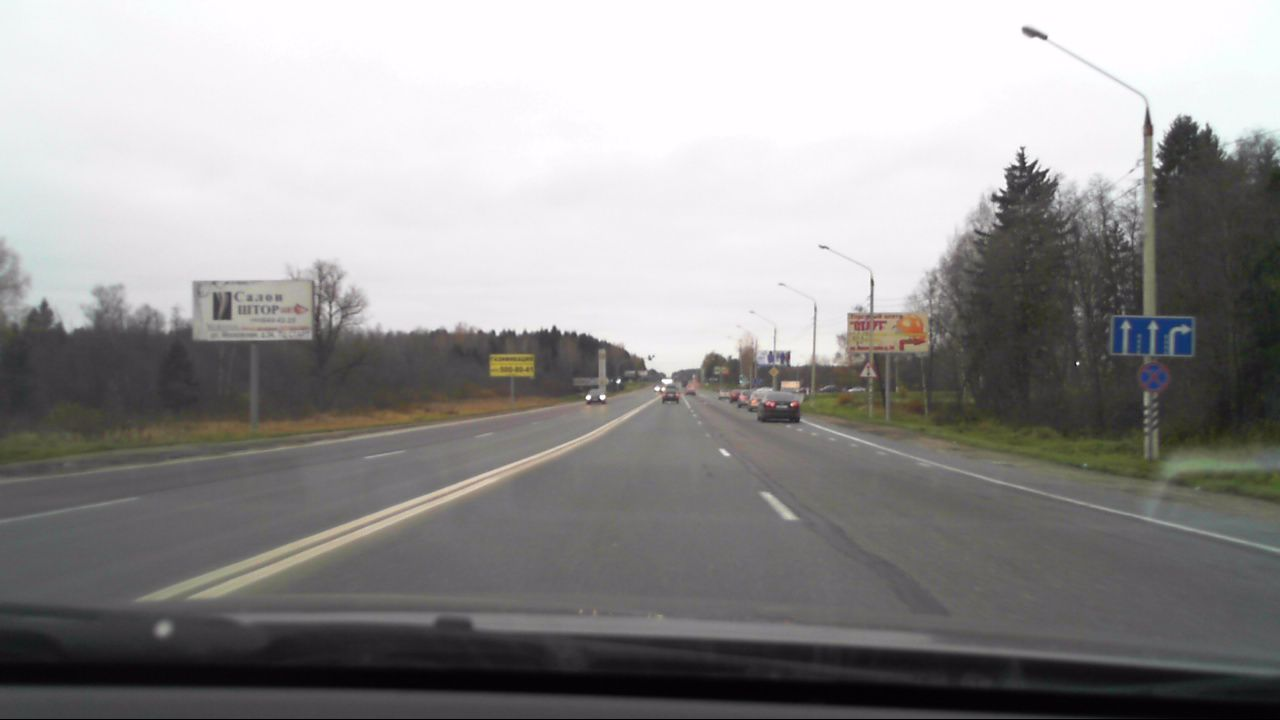No Parking: (1132, 363, 1165, 393)
